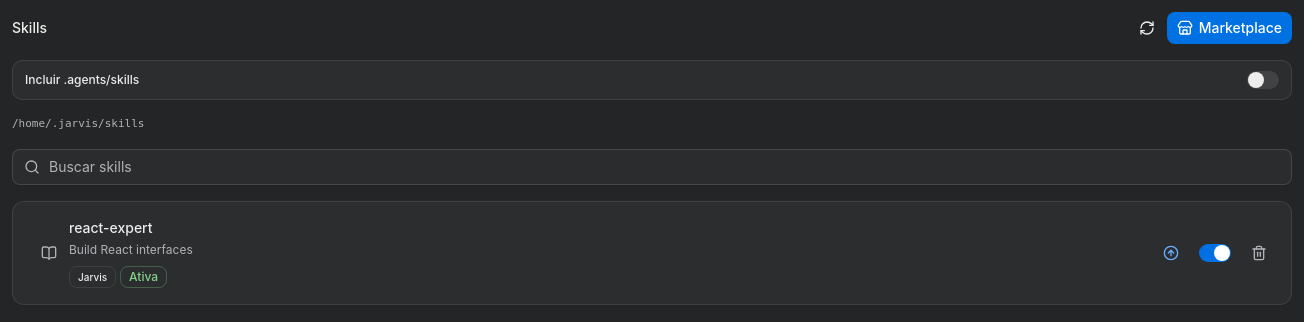
Scenario: SkillsSettings › oferece atualização individual e filtra a lista
The image size is (1304, 322).
Click the button named "Atualizar react-expert" at (1171,253), box [1155,237,1187,269]
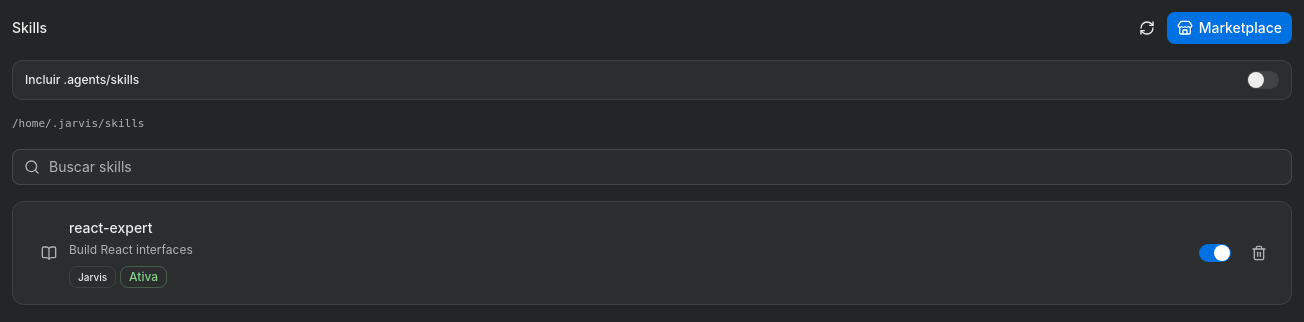
Type "not-found" into the field named "Buscar skills instaladas" at (652,167), box [12,149,1292,185]
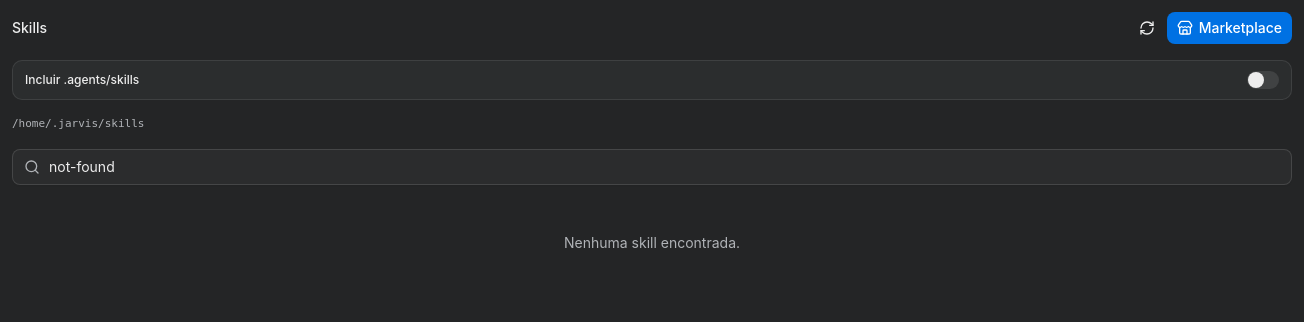
Result: the text "Nenhuma skill encontrada." is shown at [564,234,740,251]
